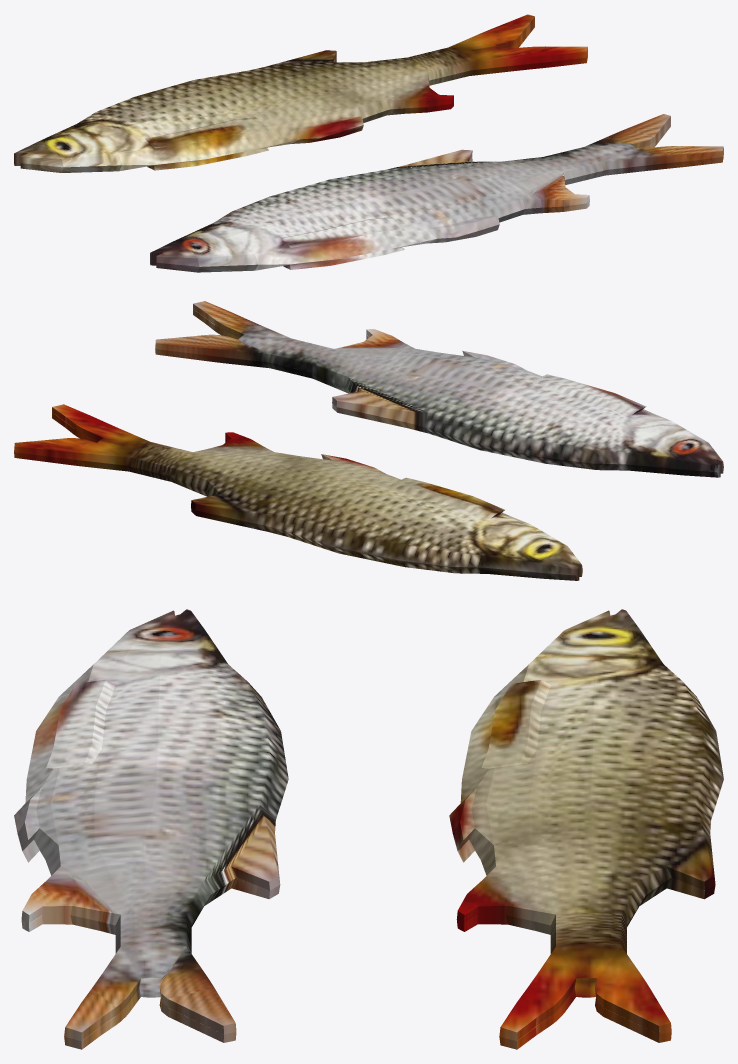
File: peces.glb
The picture shows the model from 3 angles, top to bottom: view 1: azimuth 30°, elevation 25°; view 2: azimuth 150°, elevation 25°; view 3: azimuth 270°, elevation 25°; orthographic projection. The views are drawn at different scales.
Visible parts, largest first — view 1: Fish1, Fish; view 2: Fish, Fish1; view 3: Fish, Fish1.
Boxes of the visible parts, box(x1,y1,x2,y2) form: Fish1: box(14, 14, 587, 172); Fish: box(150, 114, 723, 272); Fish: box(155, 301, 723, 477); Fish1: box(14, 404, 582, 580); Fish: box(14, 609, 288, 1049); Fish1: box(449, 609, 723, 1049).
Bounding box in the file's own units: 4.6 × 0.2586 × 3.26.
2 materials, 2 textured.
